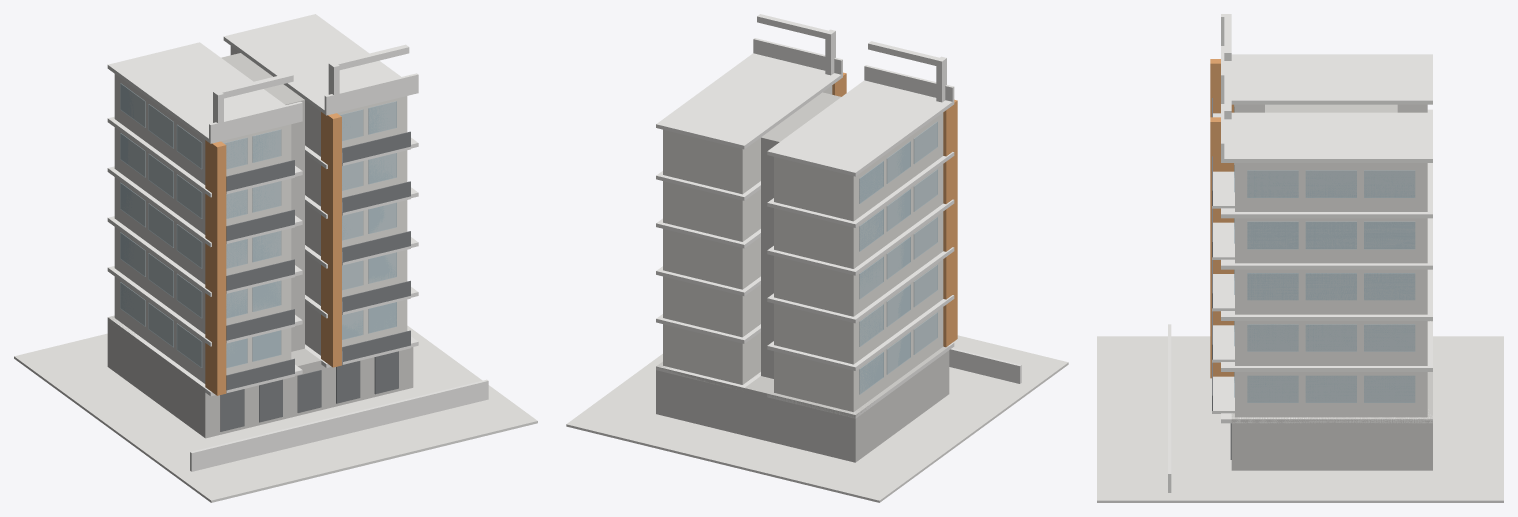
Rendered from dr-arafat-palace.glb.
3 views of the same model, side by side, from view 1: azimuth 30°, elevation 25°; view 2: azimuth 150°, elevation 25°; view 3: azimuth 270°, elevation 25° (orthographic). The views are drawn at different scales.
Parts seen in each view (by area): view 1: site-site, roof-white, floor-5-offwhite, floor-0-grey, floor-4-offwhite, floor-3-offwhite, floor-2-offwhite, floor-1-offwhite, site-white, floor-5-glass, floor-3-glass, floor-1-glass (+23 smaller); view 2: roof-white, site-site, floor-0-grey, floor-5-offwhite, floor-2-offwhite, floor-4-offwhite, floor-1-offwhite, floor-3-offwhite, floor-3-white, floor-5-white, floor-2-white, floor-4-white (+17 smaller); view 3: site-site, roof-white, floor-0-grey, floor-5-offwhite, floor-1-offwhite, floor-3-offwhite, floor-4-offwhite, floor-2-offwhite, floor-4-glass, floor-5-glass, floor-2-glass, floor-1-glass (+9 smaller).
Boxes of the visible parts, box(x1,y1,x2,y2) form: site-site: box(14, 325, 537, 502); roof-white: box(107, 14, 418, 143); floor-5-offwhite: box(114, 46, 407, 184); floor-0-grey: box(107, 315, 413, 438); floor-4-offwhite: box(114, 127, 407, 234); floor-3-offwhite: box(114, 177, 407, 284); floor-2-offwhite: box(114, 227, 407, 333); floor-1-offwhite: box(114, 277, 407, 383); site-white: box(190, 379, 488, 471); floor-5-glass: box(120, 83, 396, 169); floor-3-glass: box(120, 182, 396, 268); floor-1-glass: box(120, 282, 396, 368); roof-white: box(656, 14, 954, 176); site-site: box(566, 335, 1068, 502); floor-0-grey: box(656, 346, 949, 462); floor-5-offwhite: box(663, 85, 943, 221); floor-2-offwhite: box(663, 259, 943, 364); floor-4-offwhite: box(663, 164, 943, 268); floor-1-offwhite: box(663, 307, 943, 411); floor-3-offwhite: box(663, 212, 943, 316); floor-3-white: box(656, 247, 954, 323); floor-5-white: box(656, 152, 954, 227); floor-2-white: box(656, 295, 954, 370); floor-4-white: box(656, 199, 954, 275); site-site: box(1097, 336, 1503, 502); roof-white: box(1221, 14, 1432, 162); floor-0-grey: box(1231, 321, 1432, 470); floor-5-offwhite: box(1235, 104, 1427, 211); floor-1-offwhite: box(1235, 372, 1427, 417); floor-3-offwhite: box(1235, 269, 1427, 314); floor-4-offwhite: box(1235, 218, 1427, 263); floor-2-offwhite: box(1235, 321, 1427, 365); floor-4-glass: box(1234, 218, 1415, 249); floor-5-glass: box(1234, 104, 1415, 197); floor-2-glass: box(1234, 321, 1415, 351); floor-1-glass: box(1234, 372, 1415, 402).
Bounding box in the file's own units: 22 × 22.35 × 23.
